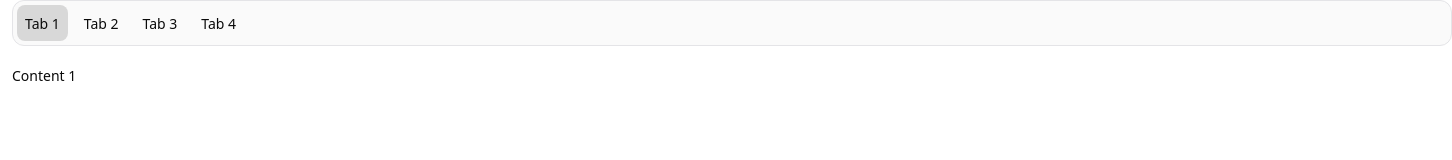
KeyboardNavigation Integration Tests › Tabs Component Keyboard Navigation › navigates tabs with arrow keys
Later steps or results of the test are not shown.
# Click first tab to focus
Click the tab "Tab 1".
click(42, 23)  # box [17,5,68,41]
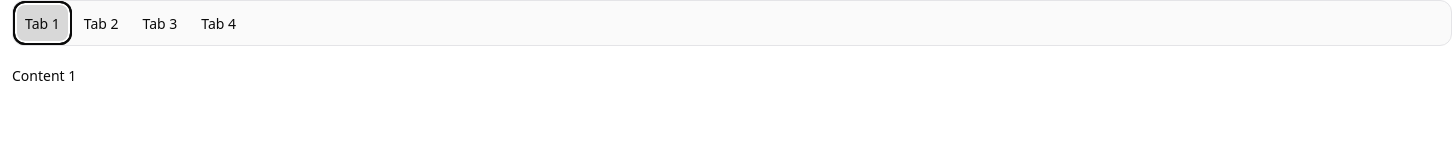
# Arrow right to next tab
Press Arrowright
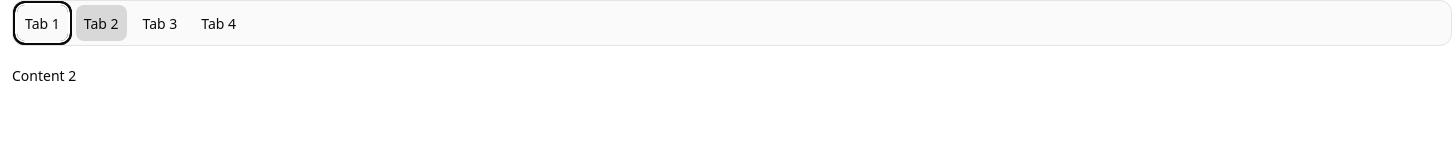
Result: the tab "Tab 2" has attribute data-active="true" at [76,5,127,41]
